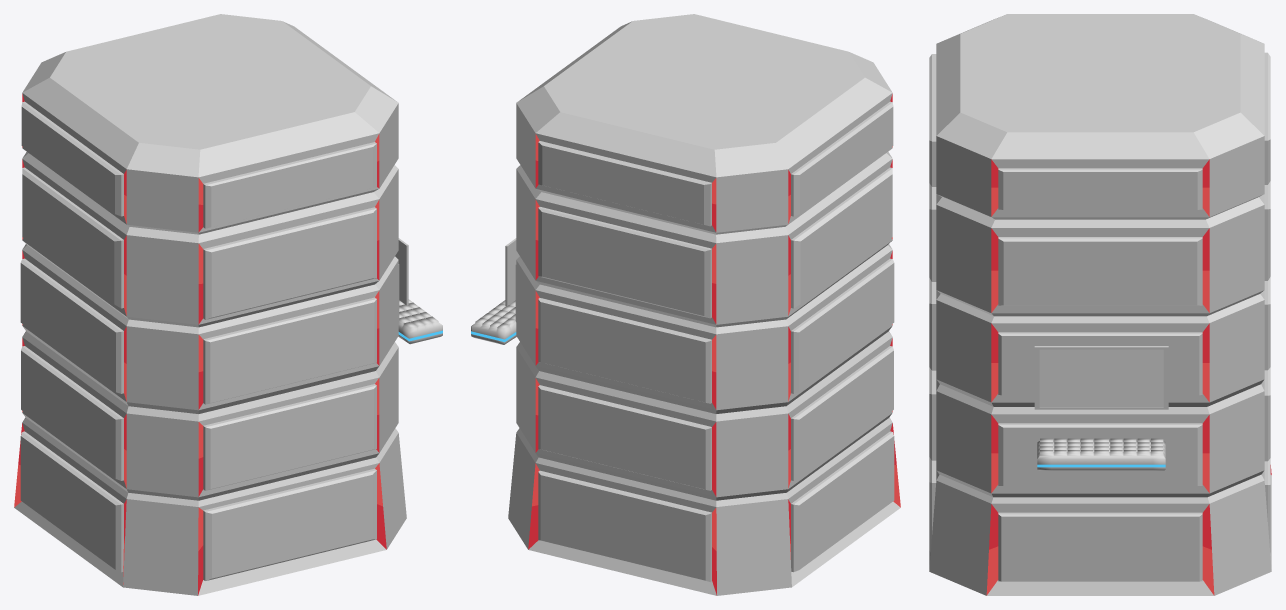
File: PerkShop.fbx
The picture shows the model from 3 angles, left to right: view 1: azimuth 30°, elevation 25°; view 2: azimuth 150°, elevation 25°; view 3: azimuth 270°, elevation 25°; orthographic projection. The views are drawn at different scales.
Visible parts, largest first — view 1: PerkShop, PerkShop.002, PerkShop.001; view 2: PerkShop, PerkShop.002, PerkShop.001; view 3: PerkShop, PerkShop.001, PerkShop.002.
Boxes of the visible parts, <box> form: PerkShop: <box>14,14,406,595</box>; PerkShop.002: <box>398,299,442,344</box>; PerkShop.001: <box>395,238,408,305</box>; PerkShop: <box>508,14,900,595</box>; PerkShop.002: <box>471,300,516,344</box>; PerkShop.001: <box>505,238,519,306</box>; PerkShop: <box>929,14,1271,595</box>; PerkShop.001: <box>1034,346,1168,409</box>; PerkShop.002: <box>1037,438,1165,470</box>.
Bounding box in the file's own units: 228 × 273 × 188.
